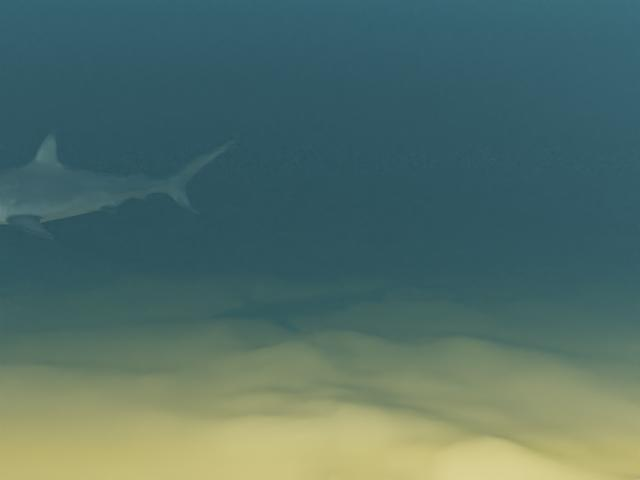Carribean Shark.001: (0, 130, 238, 238)
